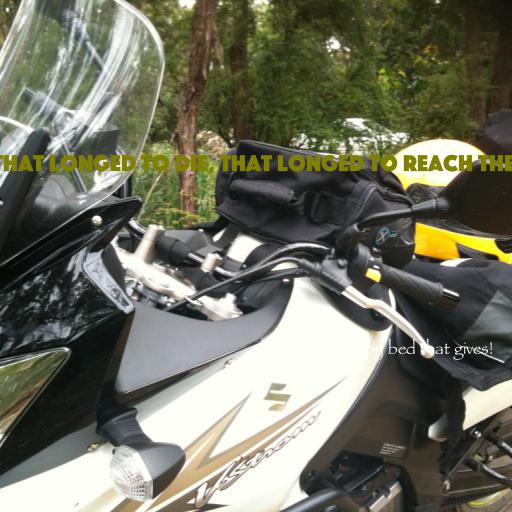Papyrus: (257, 338, 493, 362)
Phosphate: (0, 154, 512, 174)
